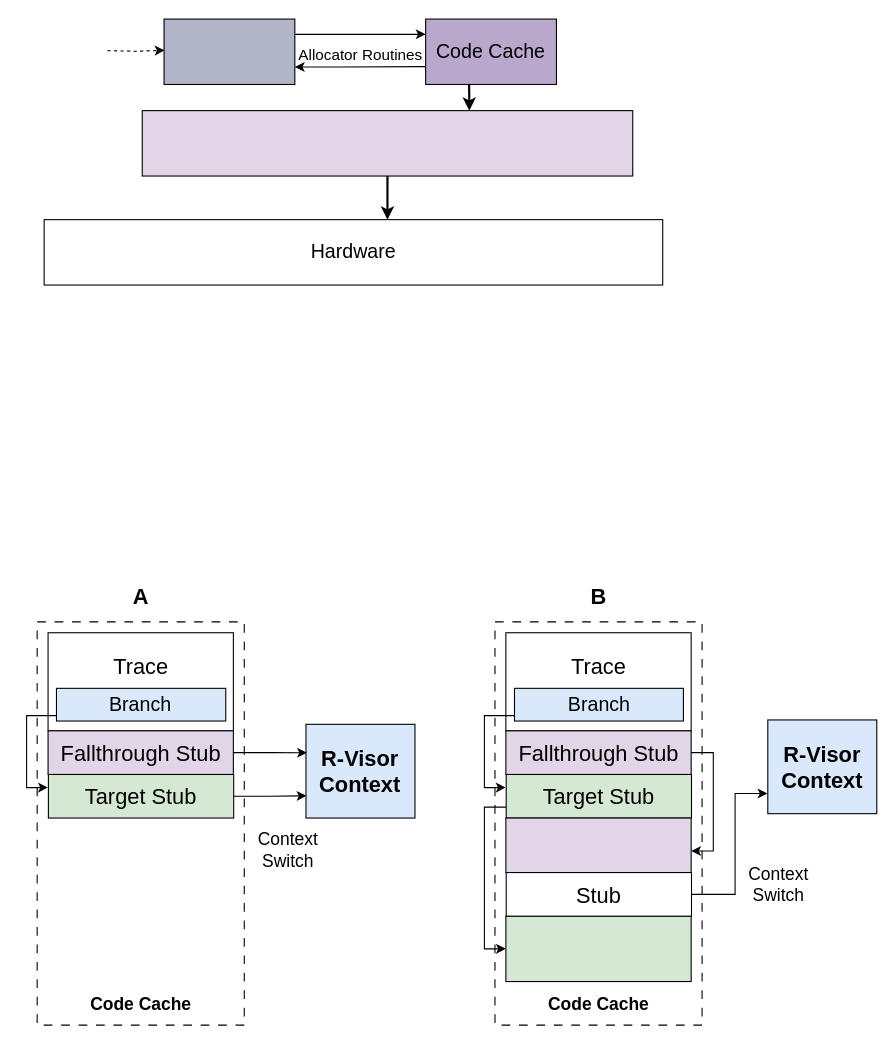
The diagram is 896 pixels wide and 1044 high, and some of its shapes have lost their labels. The centre of each missing label's shape, as x and y in pixels:
Basic Block Allocator: the point at 229,51
Dispatcher: the point at 387,143
Fallthrough Block: the point at 598,845
Target Block: the point at 598,948
